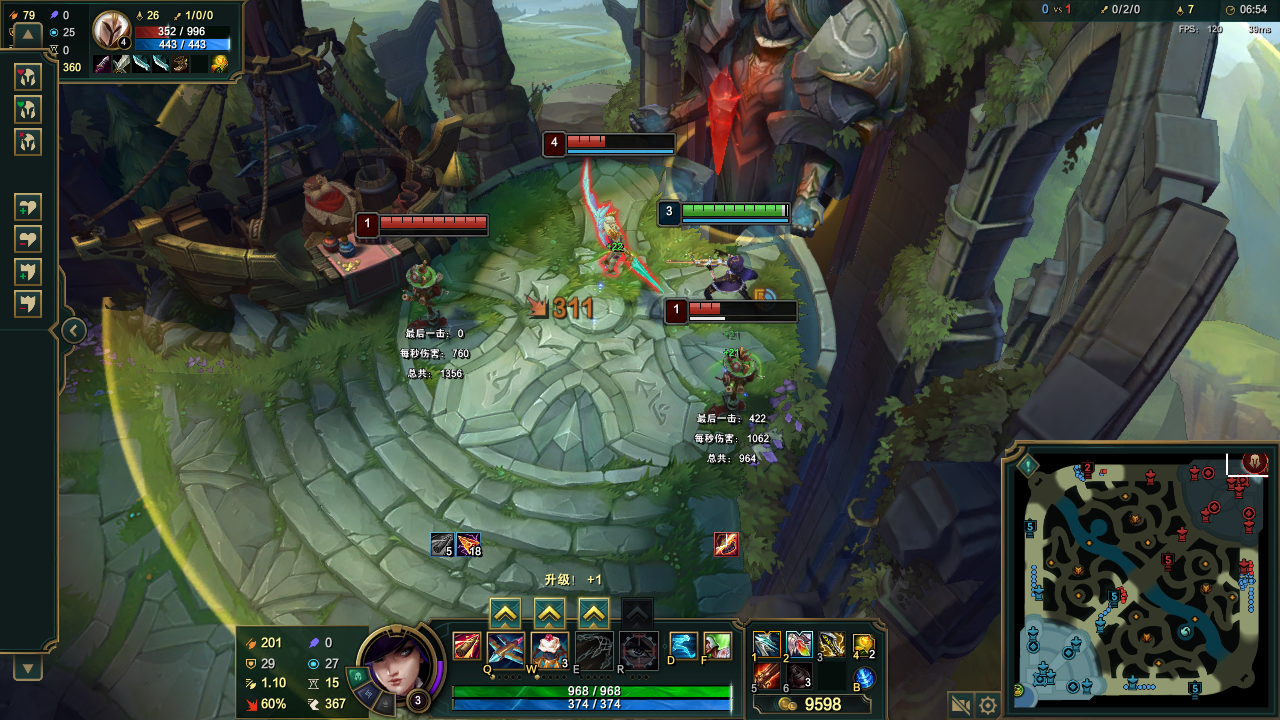DFYX: (383, 209, 490, 232), (568, 129, 680, 149), (688, 302, 803, 316)
